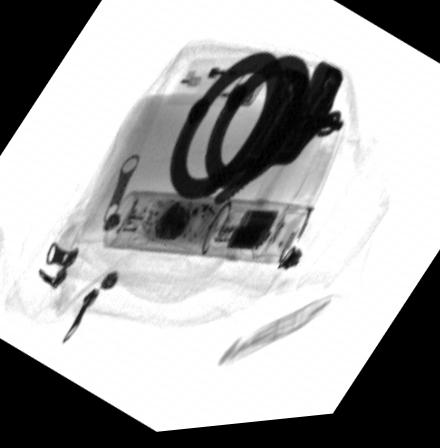Baton: (101, 188, 309, 270)
HandCuffs: (170, 55, 344, 211)
Lighter: (163, 64, 276, 113)
